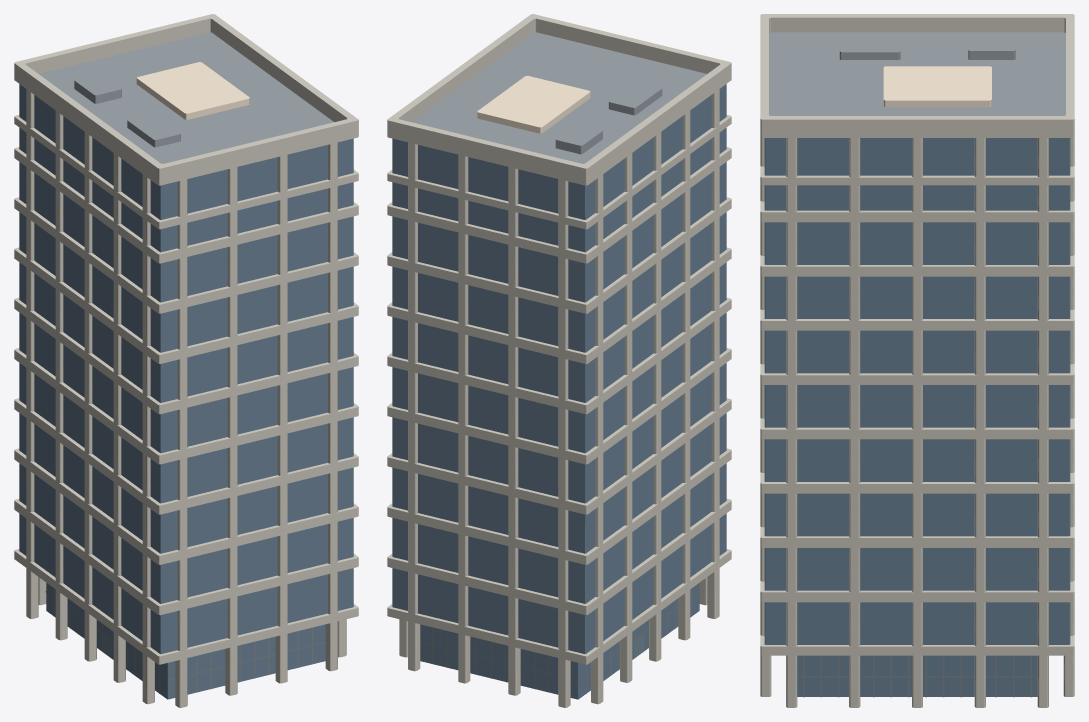
Rendered from nb-520-newport-center-drive.glb.
3 renders of one model, left to right at view 1: azimuth 30°, elevation 25°; view 2: azimuth 150°, elevation 25°; view 3: azimuth 270°, elevation 25°, orthographic. The views are drawn at different scales.
Parts seen in each view (by area): view 1: 520 Newport Center Drive; view 2: 520 Newport Center Drive; view 3: 520 Newport Center Drive.
Part boxes in pixels (x1,y1,x2,y2): 520 Newport Center Drive: [14, 14, 358, 707]; 520 Newport Center Drive: [387, 14, 731, 707]; 520 Newport Center Drive: [760, 14, 1074, 707].
Bounding box in the file's own units: 37 × 96 × 46.5.
